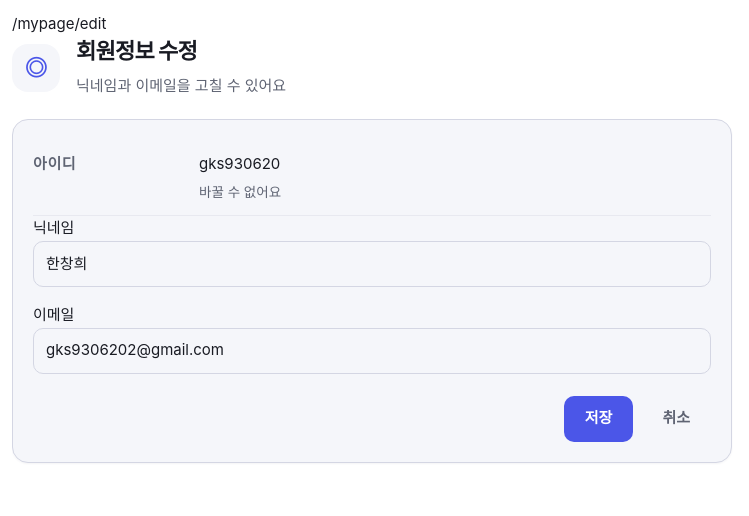
회원정보 수정 — 저장 (AC-A-06·10·13) › 서버 오류(500)여도 입력값이 지워지지 않는다
Step 1. Replace the text in the field labelled "닉네임" with "바꾼닉네임" → (372, 264), box [33,241,711,287]
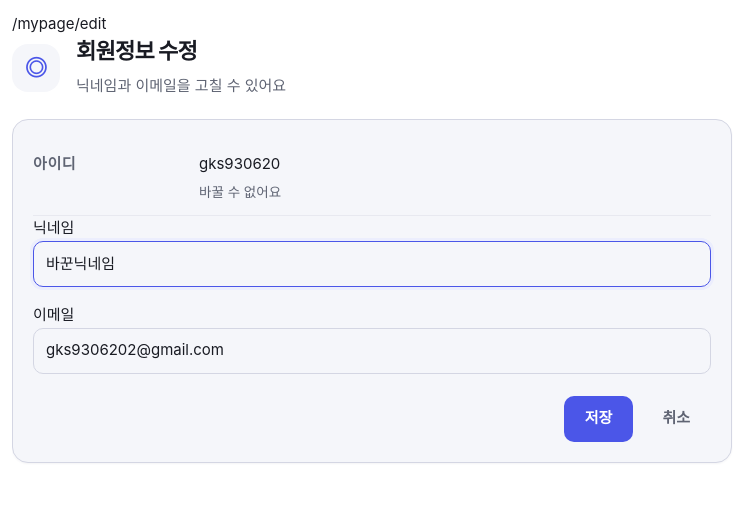
Step 2. Click the button "저장" → (599, 419), box [564,396,633,442]
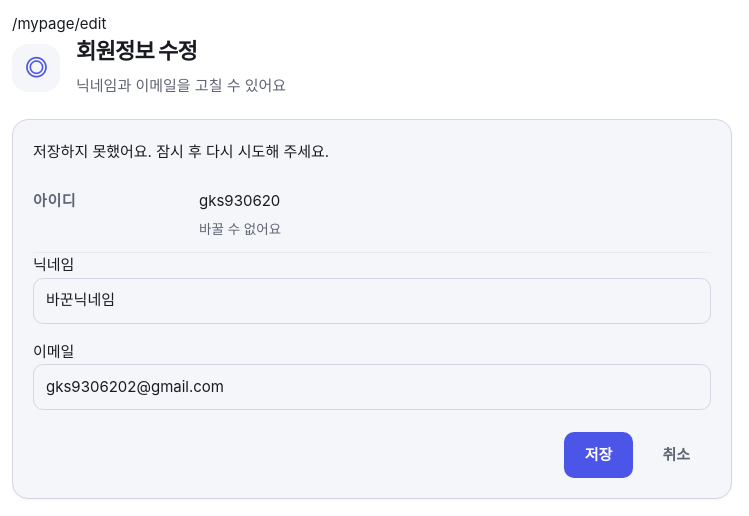
Now the message "저장하지 못했어요. 잠시 후 다시 시도해 주세요." is shown, box [33,142,329,161]
